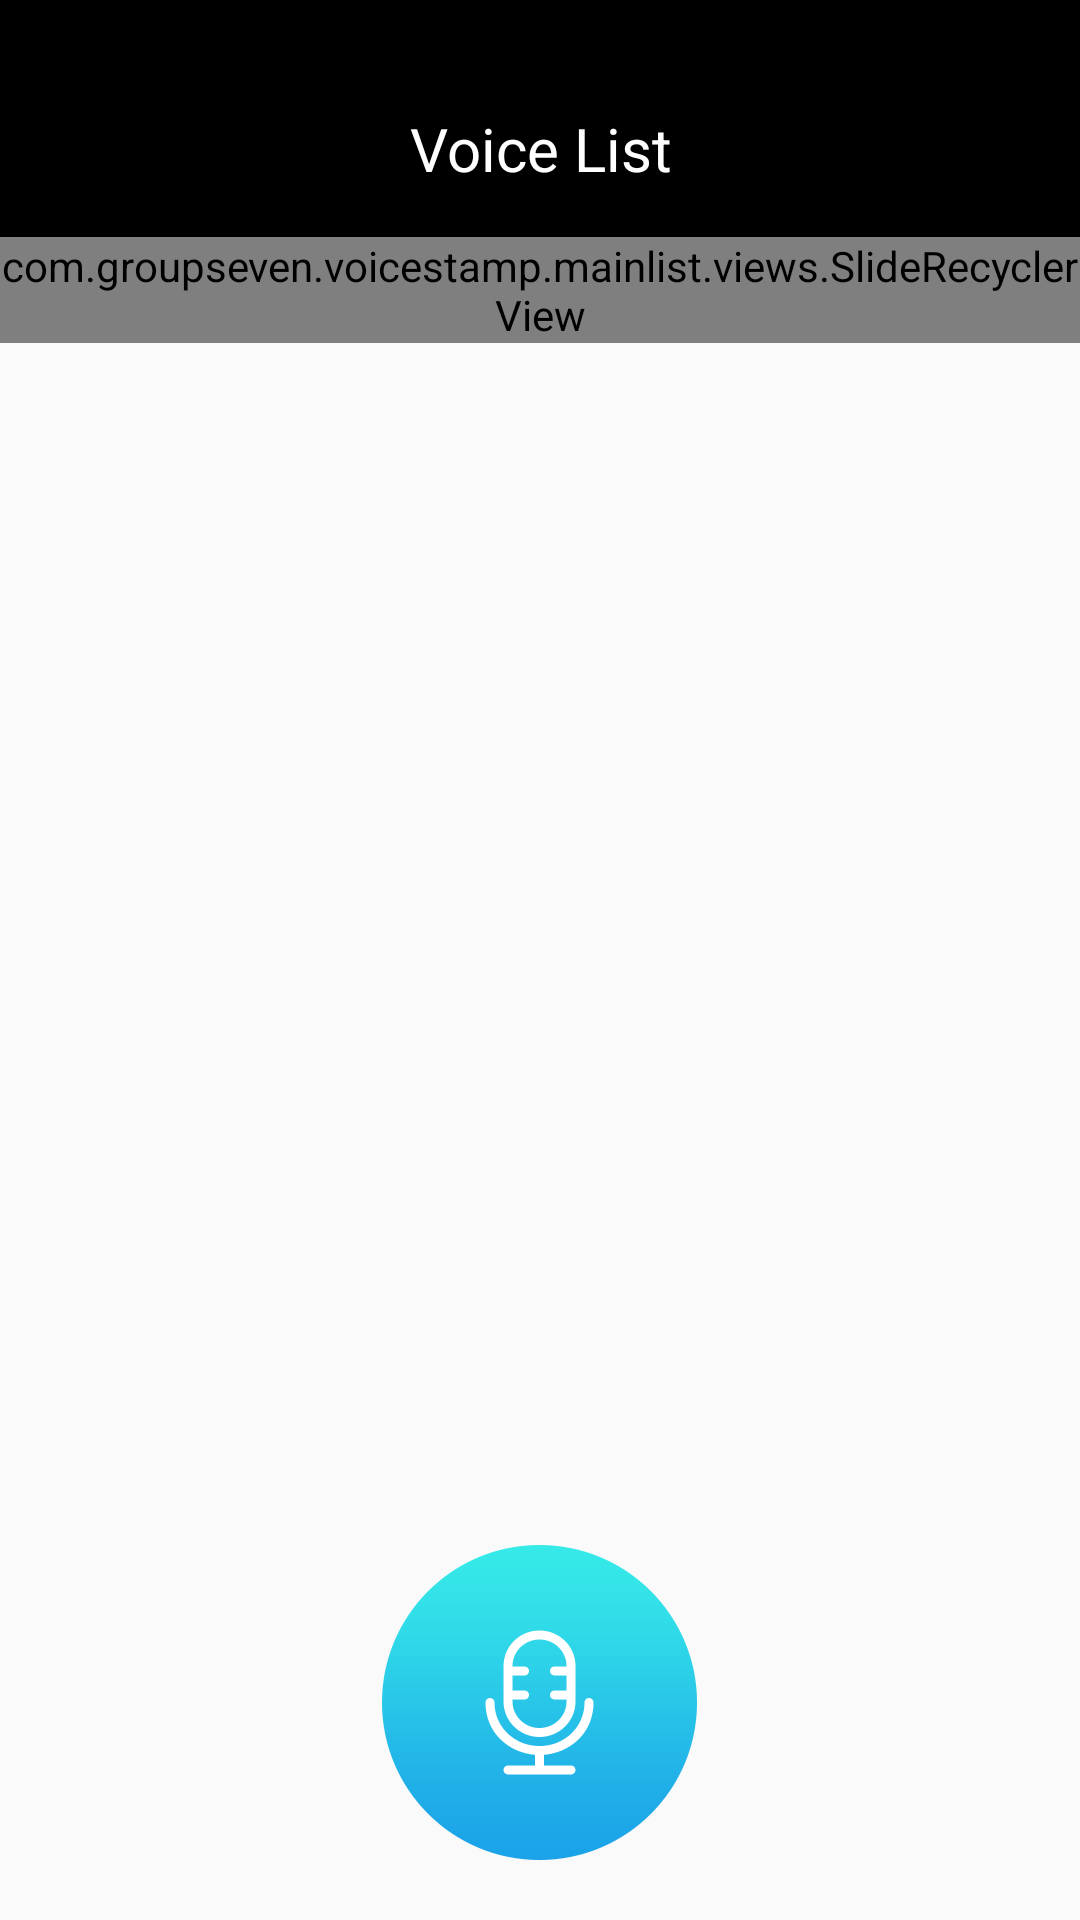

Named icons in this screenshot (1080w x 1920h) and their centers, [x,y]:
record start play: [539,1702]
